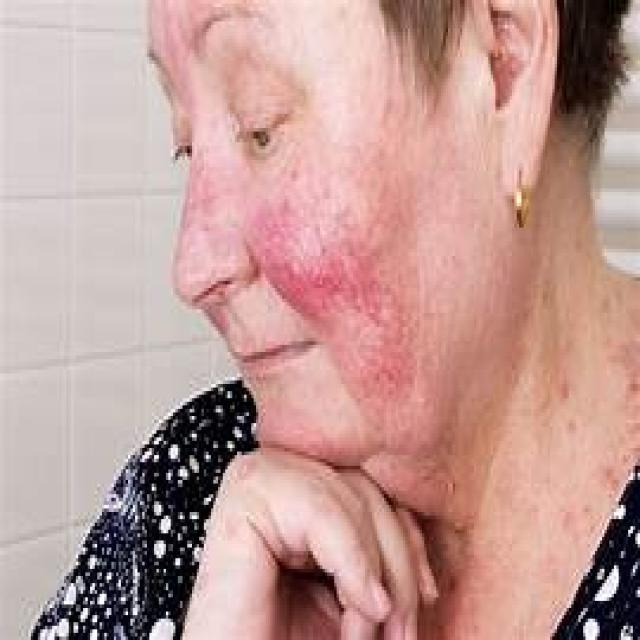Rosacea: (261, 218, 372, 320)
